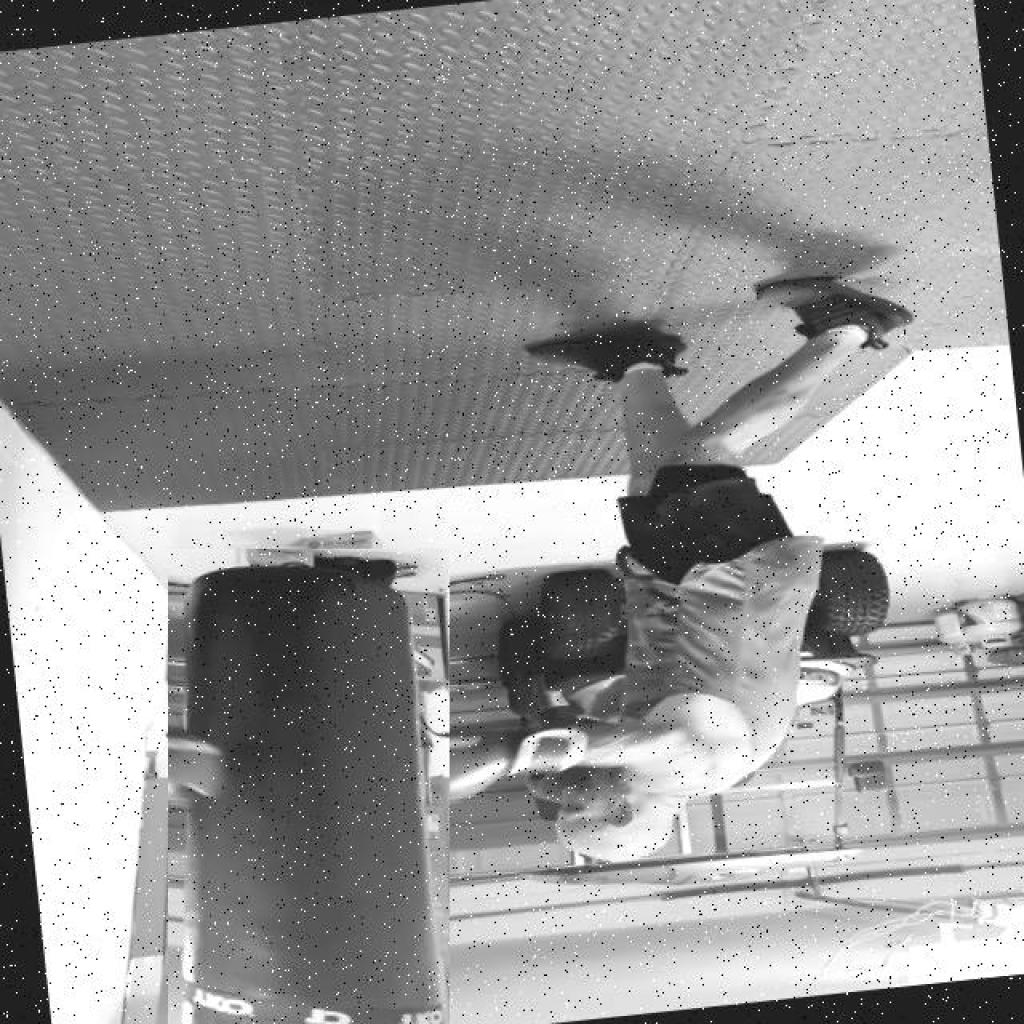bag: (168, 549, 450, 1024)
hook: (332, 656, 854, 907)
